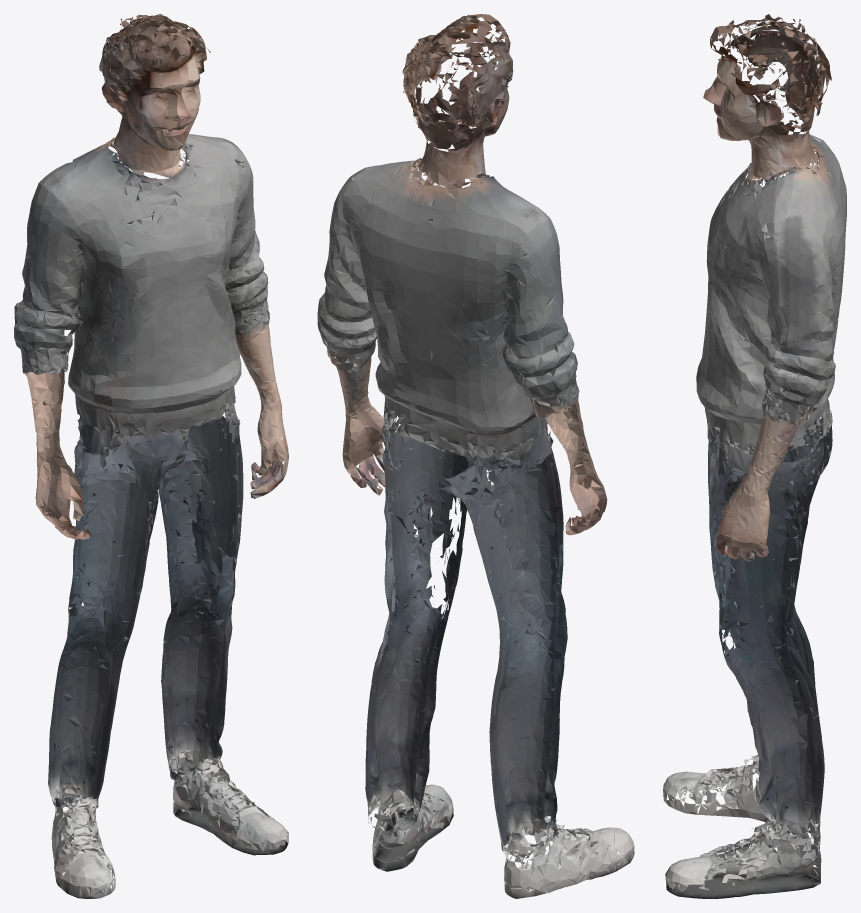
File: altman.glb
3 views of the same model, side by side, from view 1: azimuth 30°, elevation 25°; view 2: azimuth 150°, elevation 25°; view 3: azimuth 270°, elevation 25° (orthographic). The views are drawn at different scales.
Bounding box in the file's own units: 0.5523 × 1.73 × 0.3452.
